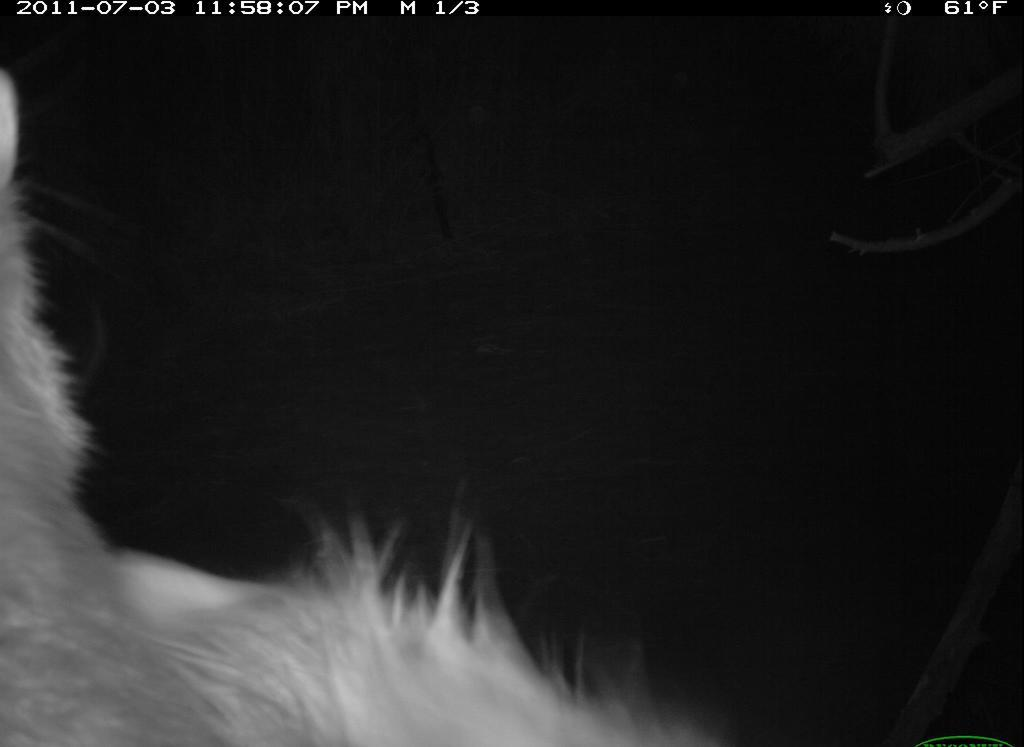raccoon: (4, 63, 747, 744)
